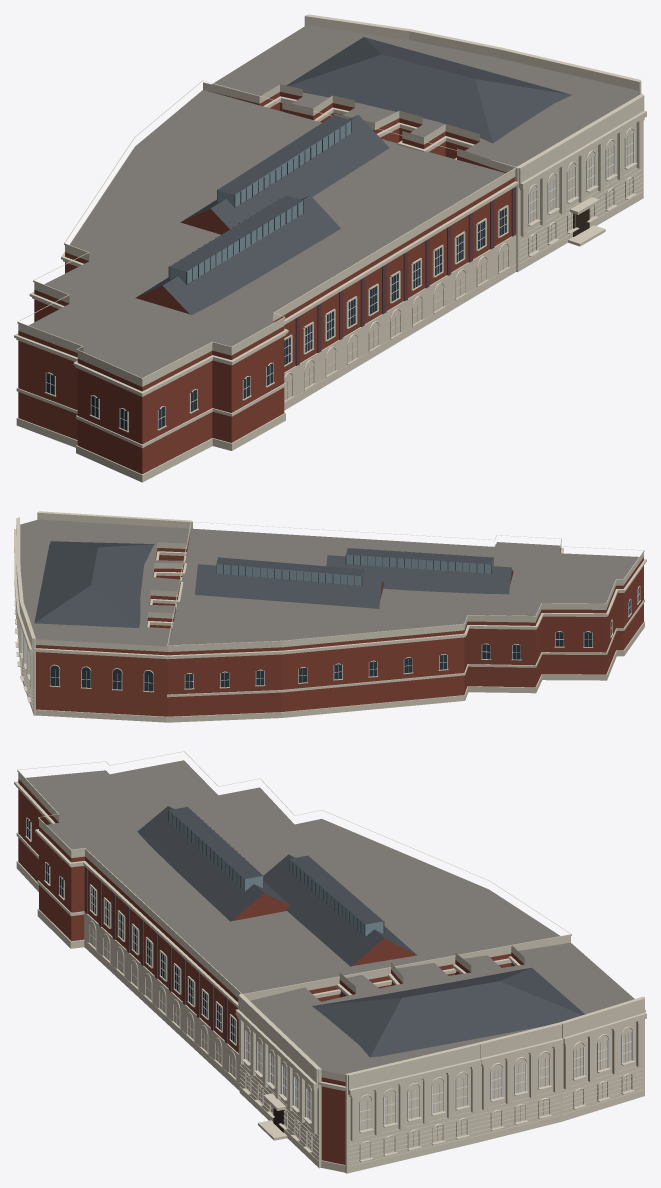
Rendered from porchester_hall.glb.
The picture shows the model from 3 angles, top to bottom: view 1: azimuth 30°, elevation 25°; view 2: azimuth 150°, elevation 25°; view 3: azimuth 270°, elevation 25°; orthographic projection. The views are drawn at different scales.
Bounding box in the file's own units: 100 × 18.16 × 80.83.
